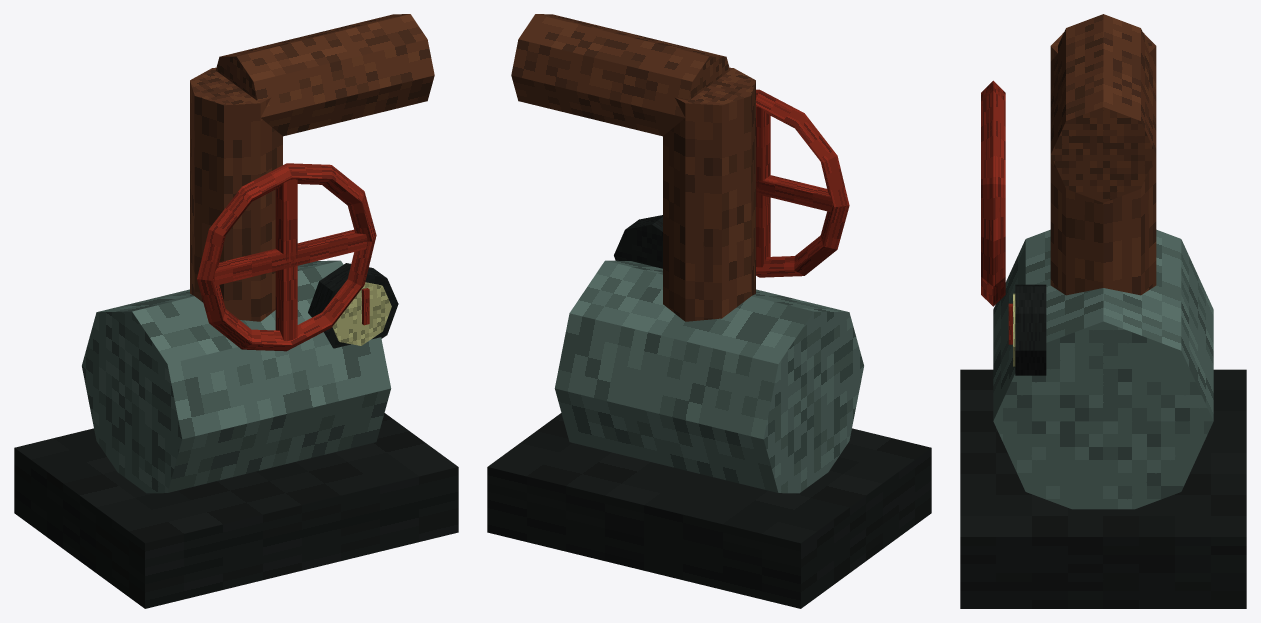
File: pump.glb
3 renders of one model, left to right at view 1: azimuth 30°, elevation 25°; view 2: azimuth 150°, elevation 25°; view 3: azimuth 270°, elevation 25°, orthographic. The views are drawn at different scales.
Parts seen in each view (by area): view 1: Pump skid, Pump barrel, Outlet, Upright pipe, Handwheel, Wheel spoke.001, Wheel spoke, Gauge face, Gauge rim; view 2: Pump barrel, Pump skid, Upright pipe, Outlet, Handwheel, Wheel spoke.001, Gauge rim, Wheel spoke; view 3: Pump barrel, Pump skid, Outlet, Upright pipe, Handwheel, Gauge rim.
Part boxes in pixels (x1=…): Pump skid: x1=14, y1=413, x2=458, y2=608; Pump barrel: x1=82, y1=260, x2=391, y2=493; Outlet: x1=215, y1=14, x2=434, y2=136; Upright pipe: x1=190, y1=67, x2=282, y2=321; Handwheel: x1=197, y1=163, x2=376, y2=351; Wheel spoke.001: x1=275, y1=179, x2=297, y2=340; Wheel spoke: x1=213, y1=229, x2=367, y2=285; Gauge face: x1=332, y1=282, x2=391, y2=345; Gauge rim: x1=308, y1=263, x2=398, y2=348; Pump barrel: x1=554, y1=260, x2=863, y2=493; Pump skid: x1=487, y1=413, x2=931, y2=608; Upright pipe: x1=663, y1=67, x2=755, y2=321; Outlet: x1=511, y1=14, x2=730, y2=136; Handwheel: x1=756, y1=89, x2=849, y2=277; Wheel spoke.001: x1=756, y1=106, x2=770, y2=267; Gauge rim: x1=614, y1=215, x2=662, y2=268; Wheel spoke: x1=756, y1=175, x2=832, y2=211; Pump barrel: x1=993, y1=229, x2=1213, y2=509; Pump skid: x1=960, y1=369, x2=1246, y2=608; Outlet: x1=1050, y1=14, x2=1156, y2=202; Upright pipe: x1=1050, y1=32, x2=1156, y2=295; Handwheel: x1=981, y1=80, x2=1005, y2=306; Gauge rim: x1=1015, y1=284, x2=1046, y2=375.
Size of the model in its own units: 0.95 by 1.28 by 0.65.
Materials: 5 (5 with a texture image).
